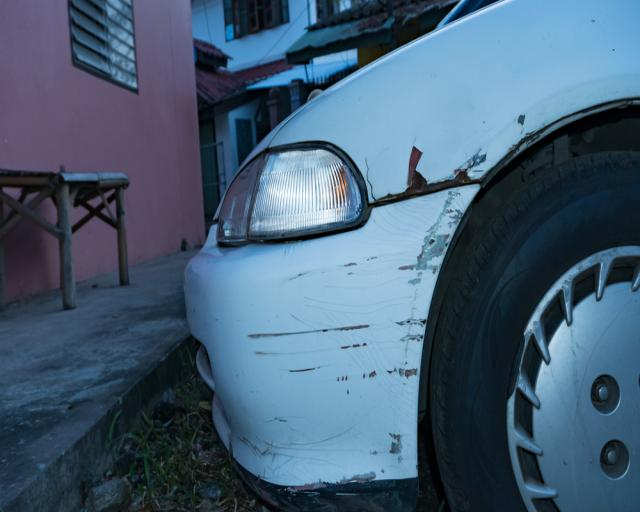crack: (366, 157, 376, 201)
scratch: (242, 189, 469, 486)
